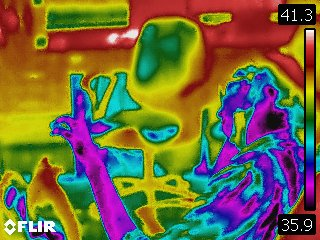human: (58, 55, 302, 240)
